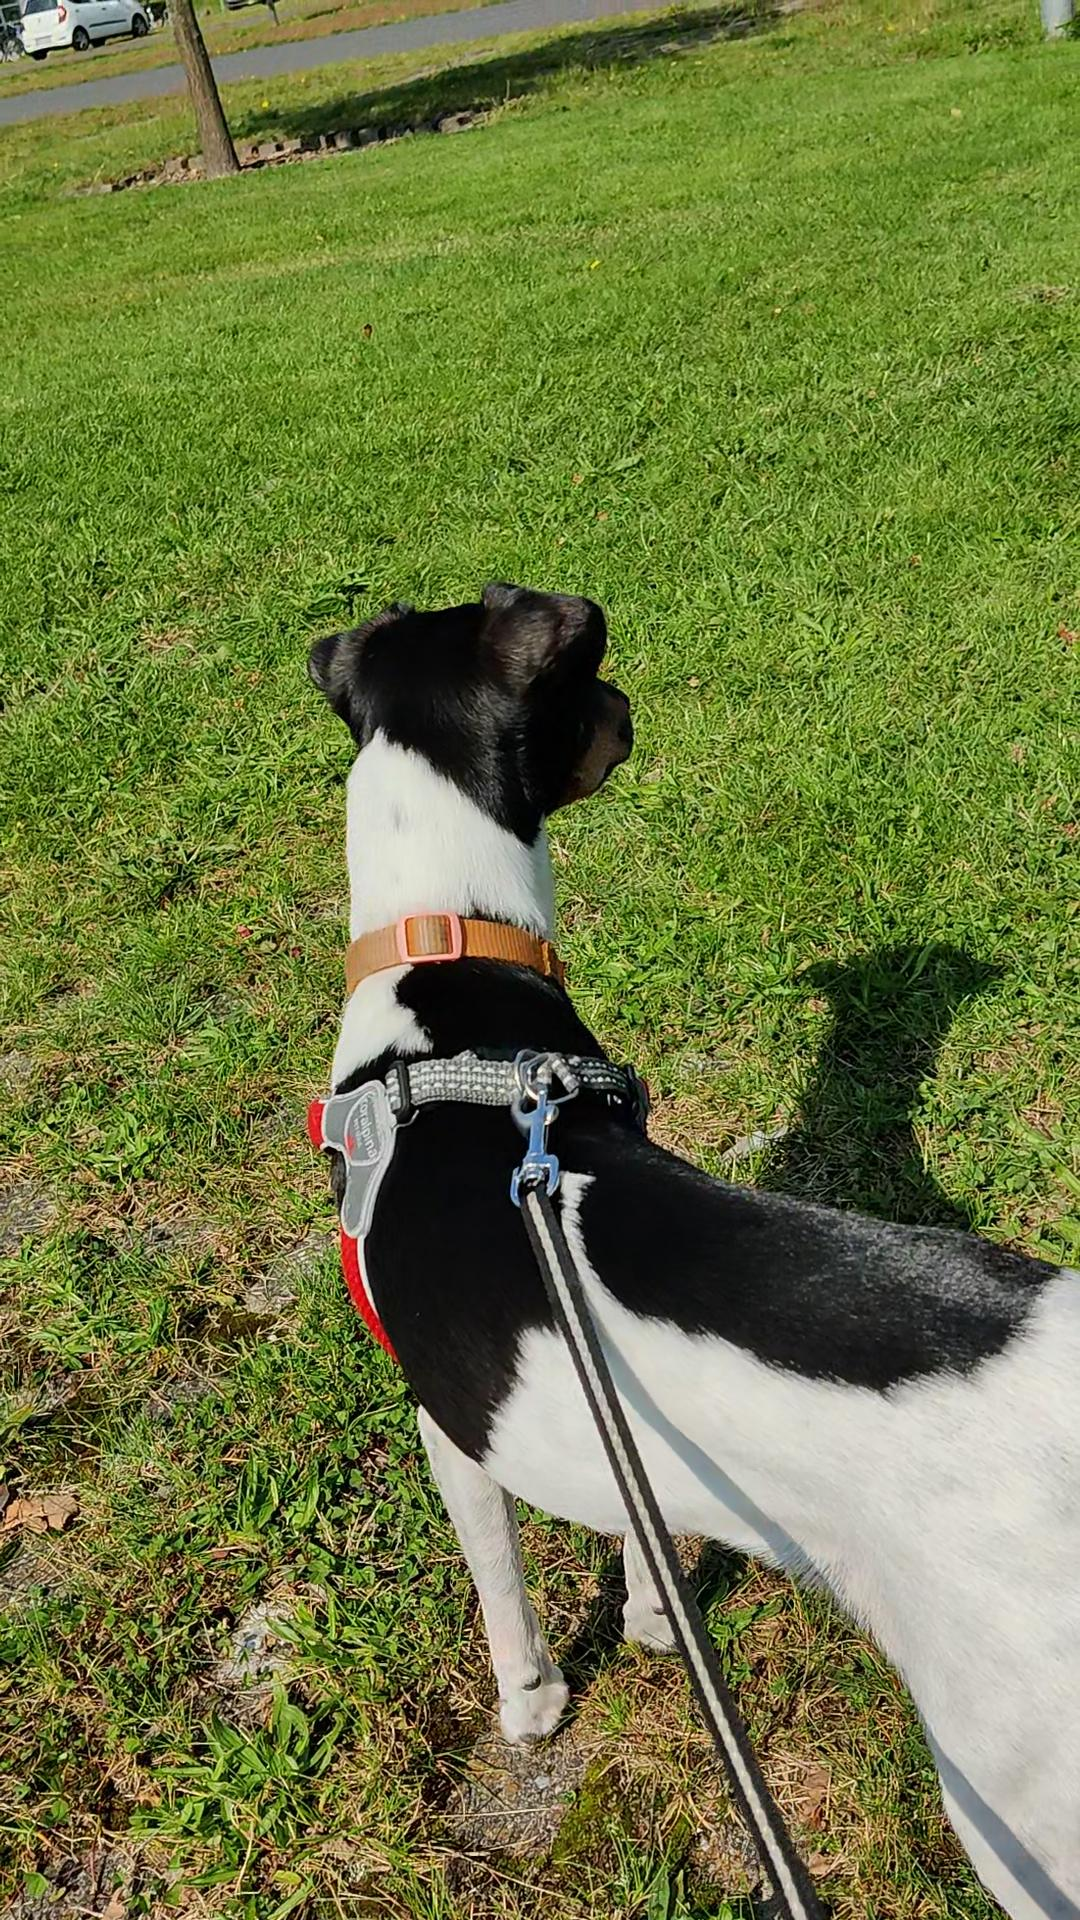Dog: (302, 574, 1079, 1919)
